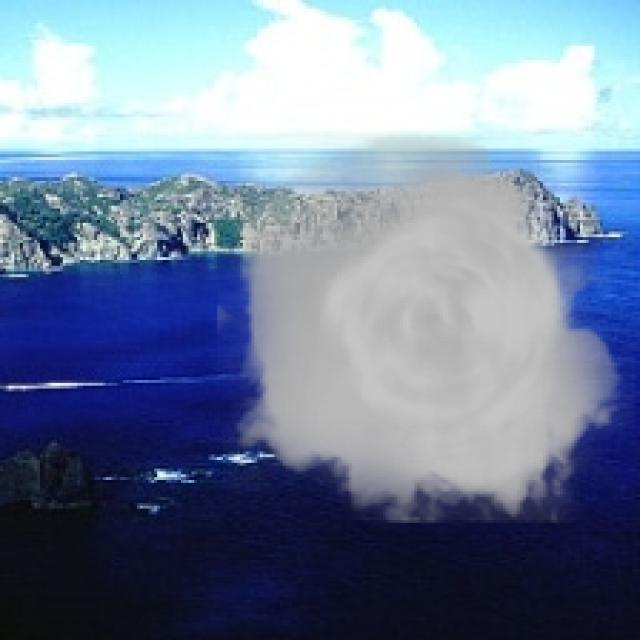smoke: (217, 131, 634, 523)
